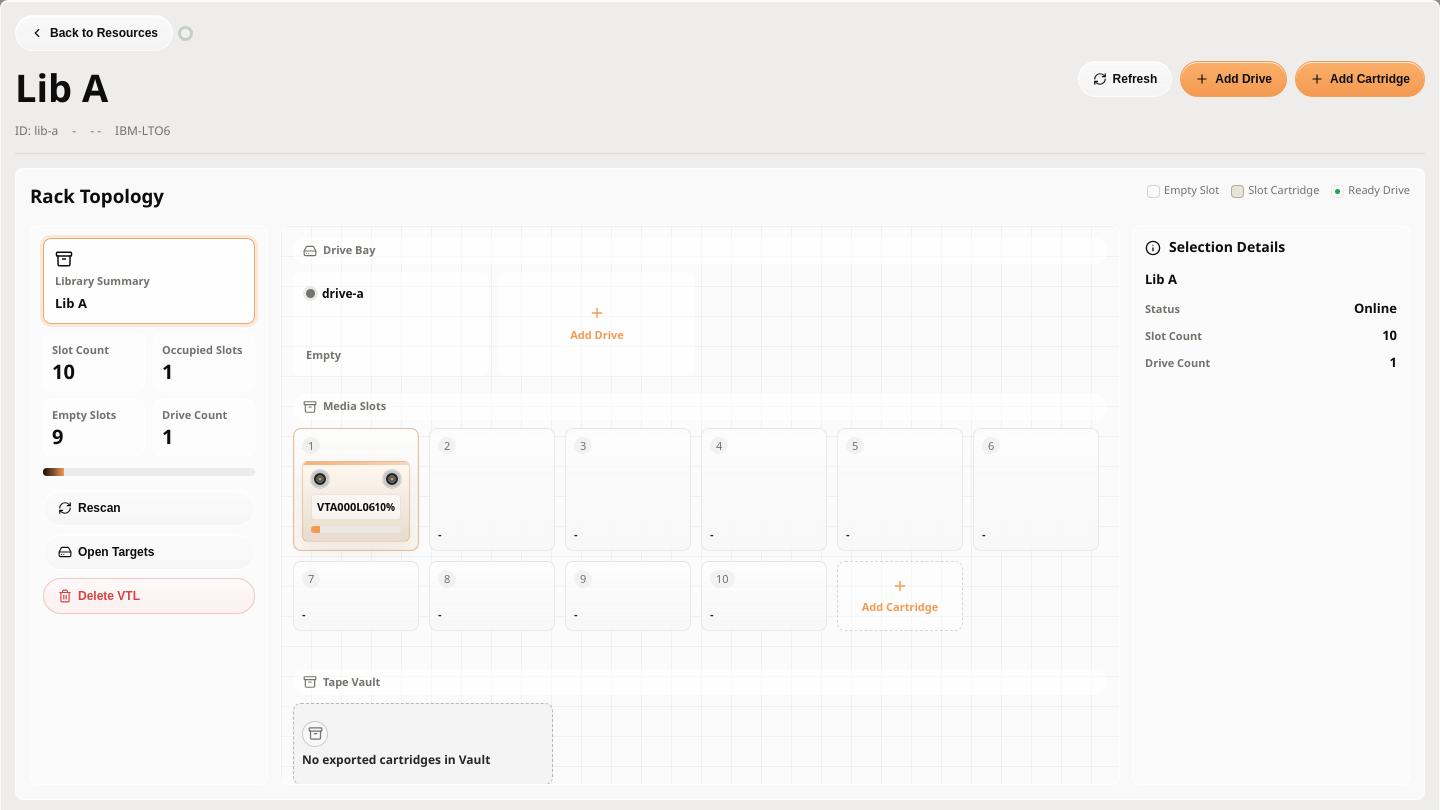
Scenario: ResourceManagePage › shows erase actions and destroy wording for selected cartridge
The image size is (1440, 810).
What coordinates should you click on to do the following:
click the text "VTA000L06"
I would click on:
 (343, 507)
Its box is top-left (317, 499), bottom-right (368, 515).
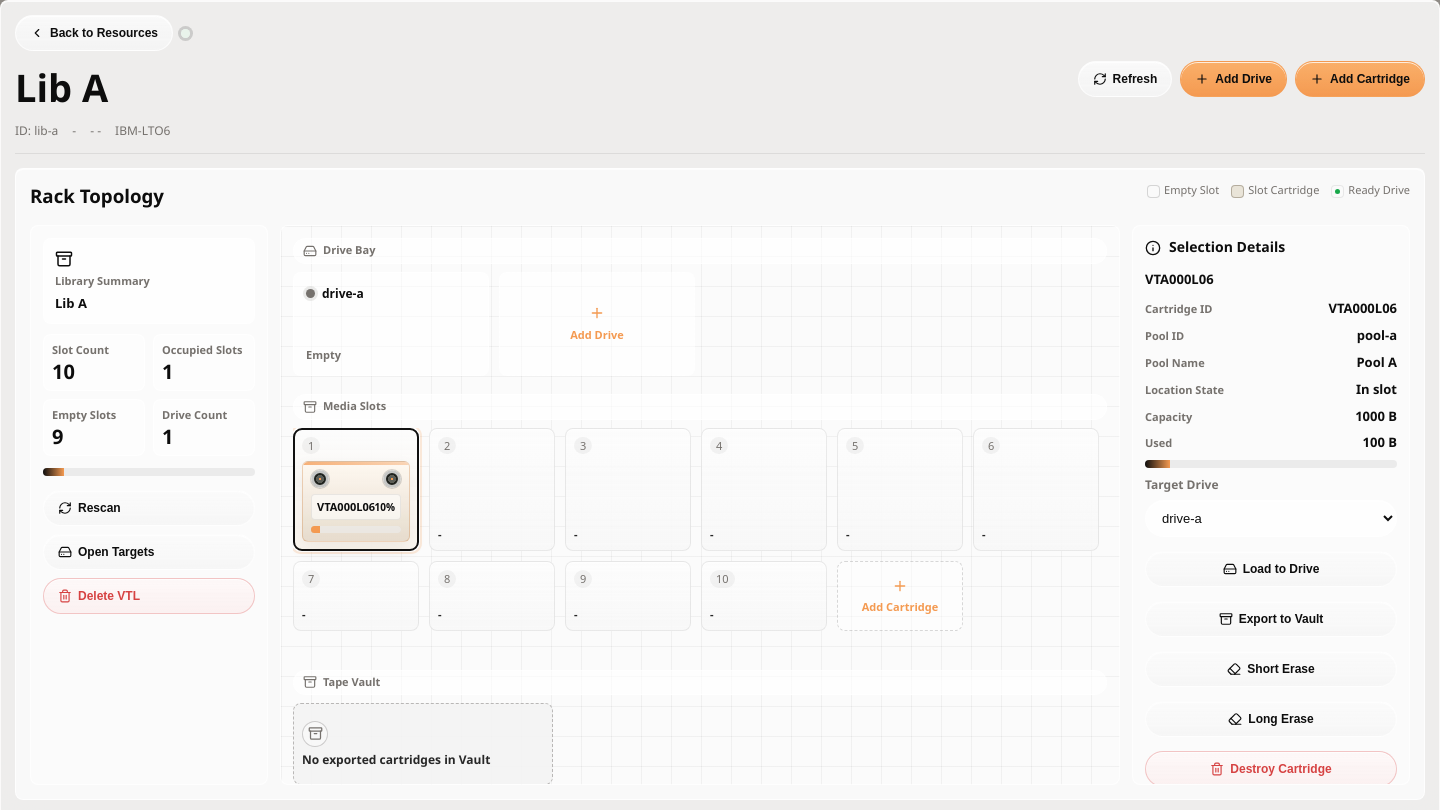
Check: the button "Short Erase" is enabled
Check: the button "Long Erase" is enabled, box top-left (1145, 701), bottom-right (1397, 737)
Check: the button "Destroy Cartridge" is enabled, box top-left (1145, 751), bottom-right (1397, 785)
What coordinates should you click on to do the following:
click the button "Short Erase"
I would click on:
 (1271, 669)
Its box is top-left (1145, 651), bottom-right (1397, 687).
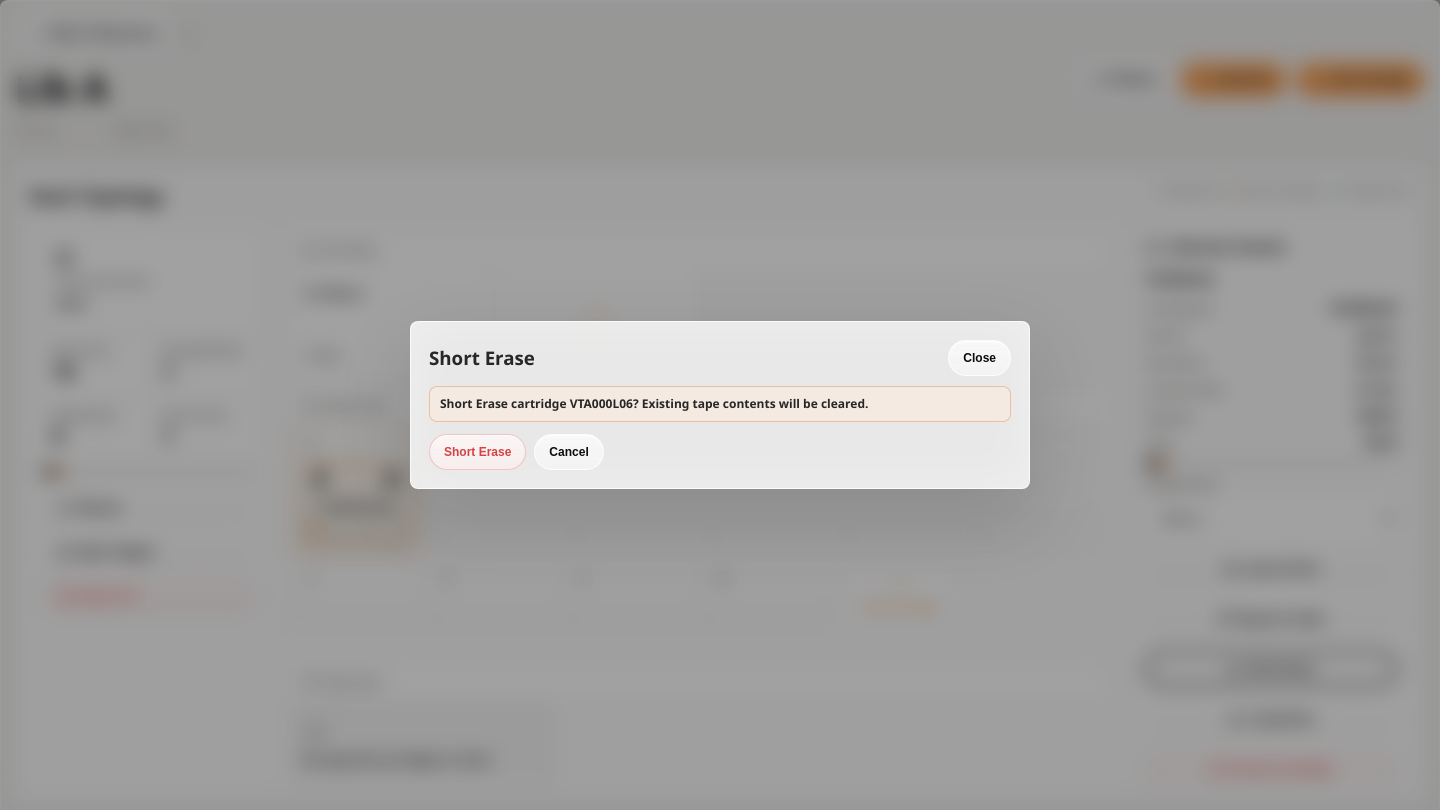
Check: the text "Existing tape contents will be cleared" is shown, box top-left (440, 395), bottom-right (868, 412)
